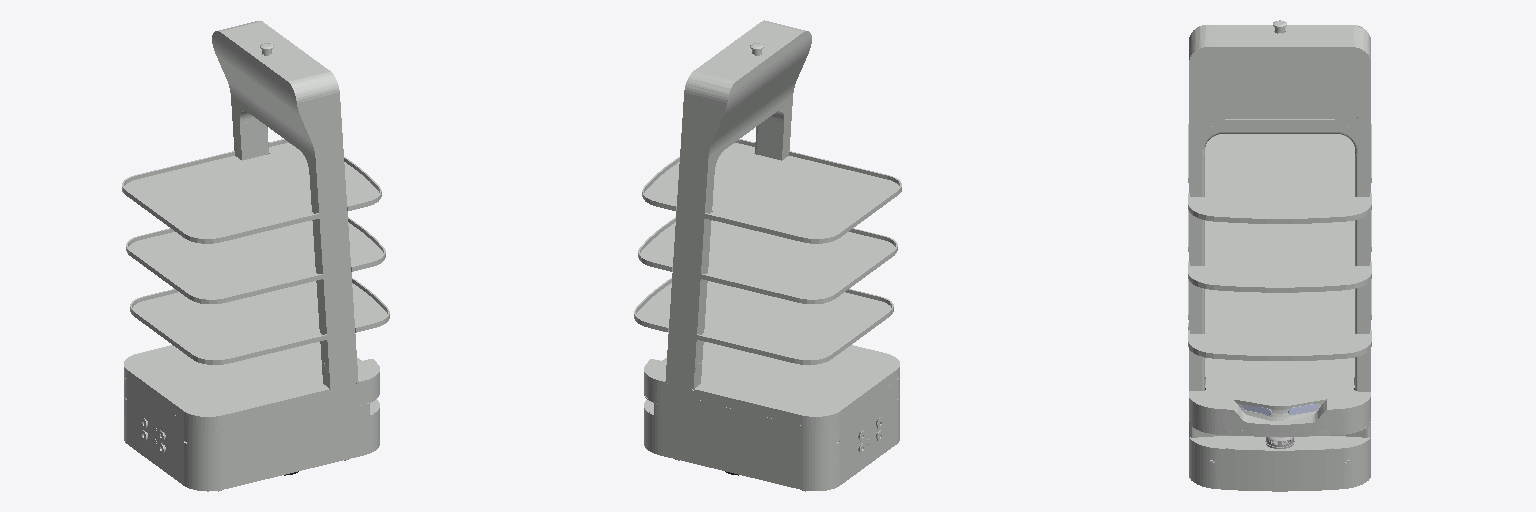
URDF robot description (indoor_del_bot):
<?xml version="1.0" encoding="utf-8"?>
<robot
  name="indoor_del_bot">

  <!-- base_link -->
  <link
    name="base_link">
    <inertial>
      <origin
        xyz="-0.00780661123444948 -7.31508946258119E-05 0.10836966300559"
        rpy="0 0 0" />
      <mass
        value="7.29555428414327" />
      <inertia
        ixx="0.125210411522138"
        ixy="-3.83427255194445E-05"
        ixz="-0.00165613454521059"
        iyy="0.167583029848759"
        iyz="9.35047372303265E-07"
        izz="0.280285157053257" />
    </inertial>
    <visual>
      <origin
        xyz="0 0 0"
        rpy="0 0 0" />
      <geometry>
        <mesh
          filename="package://d_bot_description/meshes/base_link.STL" />
      </geometry>
      <material
        name="">
        <color
          rgba="0.827450980392157 0.83921568627451 0.827450980392157 1" />
      </material>
    </visual>
    <collision>
      <origin
        xyz="0 0 0"
        rpy="0 0 0" />
      <geometry>
        <mesh
          filename="package://d_bot_description/meshes/base_link.STL" />
      </geometry>
    </collision>
  </link>

  <!-- lidar link and joint -->
  <link
    name="lidar_link">
    <inertial>
      <origin
        xyz="0.279194541394812 -1.49381448597552E-05 0.122298548059415"
        rpy="0 0 0" />
      <mass
        value="0.165382751635992" />
      <inertia
        ixx="7.88651836105336E-05"
        ixy="4.84717640920877E-08"
        ixz="2.18479443959794E-06"
        iyy="7.51902914938724E-05"
        iyz="2.88601572510436E-08"
        izz="0.000109946753058708" />
    </inertial>
    <visual>
      <origin
        xyz="-0.279194541394812 1.49381448597552E-05 -0.122298548059415"
        rpy="0 0 0" />
      <geometry>
        <mesh
          filename="package://d_bot_description/meshes/lidar_link.STL" />
      </geometry>
      <material
        name="">
        <color
          rgba="0.752941176470588 0.752941176470588 0.752941176470588 0.4" />
      </material>
    </visual>
    <collision>
      <origin
        xyz="-0.279194541394812 1.49381448597552E-05 -0.122298548059415"
        rpy="0 0 0" />
      <geometry>
        <mesh
          filename="package://d_bot_description/meshes/lidar_link.STL" />
      </geometry>
    </collision>
  </link>
  <joint
    name="lidar_link_joint"
    type="fixed">
    <origin
      xyz="0.279194541394812 -1.49381448597552E-05 0.122298548059415"
      rpy="0 0 0" />
    <parent
      link="base_link" />
    <child
      link="lidar_link" />
    <axis
      xyz="1 0 0" />
  </joint>

  <!-- real_sense_left link and joint -->
  <link
    name="rs_left">
    <inertial>
      <origin
        xyz="0.274555027589029 0.0594512444419123 0.217391938332195"
        rpy="0 0 0" />
      <mass
        value="0.0447521571009435" />
      <inertia
        ixx="2.39114045668301E-05"
        ixy="8.20326286217048E-06"
        ixz="-1.82111380306059E-08"
        iyy="7.31204727336871E-06"
        iyz="1.80836025822923E-08"
        izz="2.73608190095255E-05" />
    </inertial>
    <visual>
      <origin
        xyz="-0.274555027589029 -0.0594512444419123 -0.217391938332195"
        rpy="0 0 0" />
      <geometry>
        <mesh
          filename="package://d_bot_description/meshes/rs_left.STL" />
      </geometry>
      <material
        name="">
        <color
          rgba="0.792156862745098 0.819607843137255 0.933333333333333 1" />
      </material>
    </visual>
    <collision>
      <origin
        xyz="-0.274555027589029 -0.0594512444419123 -0.217391938332195"
        rpy="0 0 0" />
      <geometry>
        <mesh
          filename="package://d_bot_description/meshes/rs_left.STL" />
      </geometry>
    </collision>
  </link>
  <joint
    name="rs_left_joint"
    type="fixed">
    <origin
      xyz="0.274555027589029 0.0594512444419123 0.217391938332195"
      rpy="0 0 0" />
    <parent
      link="base_link" />
    <child
      link="rs_left" />
    <axis
      xyz="0 0 0" />
  </joint>

  <!-- real_sense_right link and joint -->
  <link
    name="rs_right">
    <inertial>
      <origin
        xyz="0.273134158939021 -0.0563363041663852 0.215391956342575"
        rpy="0 0 0" />
      <mass
        value="0.0447522720440084" />
      <inertia
        ixx="2.28893414689802E-05"
        ixy="-9.12224588442263E-06"
        ixz="1.2674636414842E-09"
        iyy="8.33417328604517E-06"
        iyz="2.56207062416853E-08"
        izz="2.73608662757534E-05" />
    </inertial>
    <visual>
      <origin
        xyz="-0.273134158939021 0.0563363041663852 -0.215391956342575"
        rpy="0 0 0" />
      <geometry>
        <mesh
          filename="package://d_bot_description/meshes/rs_right.STL" />
      </geometry>
      <material
        name="">
        <color
          rgba="0.792156862745098 0.819607843137255 0.933333333333333 1" />
      </material>
    </visual>
    <collision>
      <origin
        xyz="-0.273134158939021 0.0563363041663852 -0.215391956342575"
        rpy="0 0 0" />
      <geometry>
        <mesh
          filename="package://d_bot_description/meshes/rs_right.STL" />
      </geometry>
    </collision>
  </link>
  <joint
    name="rs_right_joint"
    type="fixed">
    <origin
      xyz="0.273134158939021 -0.0563363041663852 0.215391956342575"
      rpy="0 0 0" />
    <parent
      link="base_link" />
    <child
      link="rs_right" />
    <axis
      xyz="0 0 0" />
  </joint>

  <!-- caster_front_left link and joint -->
  <link
    name="caster_fl">
    <inertial>
      <origin
        xyz="0.191862541507397 0.197610528427432 0.00130276285386216"
        rpy="0 0 0" />
      <mass
        value="0.0334173711421252" />
      <inertia
        ixx="6.33984500469436E-06"
        ixy="3.76037439293872E-08"
        ixz="-6.40304873706217E-22"
        iyy="1.06390050747607E-05"
        iyz="-2.92534718662965E-22"
        izz="6.33951611873327E-06" />
    </inertial>
    <visual>
      <origin
        xyz="-0.191862541507397 -0.197610528427432 -0.00130276285386216"
        rpy="0 0 0" />
      <geometry>
        <mesh
          filename="package://d_bot_description/meshes/caster_fl.STL" />
      </geometry>
      <material
        name="">
        <color
          rgba="0.792156862745098 0.819607843137255 0.933333333333333 1" />
      </material>
    </visual>
    <collision>
      <origin
        xyz="-0.191862541507397 -0.197610528427432 -0.00130276285386216"
        rpy="0 0 0" />
      <geometry>
        <mesh
          filename="package://d_bot_description/meshes/caster_fl.STL" />
      </geometry>
    </collision>
  </link>
  <joint
    name="caster_fl_joint"
    type="continuous">
    <origin
      xyz="0.191862541507397 0.197610528427432 0.00130276285386216"
      rpy="0 0 0" />
    <parent
      link="base_link" />
    <child
      link="caster_fl" />
    <axis
      xyz="0 1 0" />
  </joint>

  <!-- caster_front_right link and joint -->
  <link
    name="caster_fr">
    <inertial>
      <origin
        xyz="0.191862541507396 -0.197389471572568 0.0013027628538621"
        rpy="0 0 0" />
      <mass
        value="0.0334173711421252" />
      <inertia
        ixx="6.33984500469437E-06"
        ixy="3.76037439293871E-08"
        ixz="-5.7474846017805E-22"
        iyy="1.06390050747608E-05"
        iyz="-2.90217181917764E-22"
        izz="6.33951611873328E-06" />
    </inertial>
    <visual>
      <origin
        xyz="-0.191862541507396 0.197389471572568 -0.0013027628538621"
        rpy="0 0 0" />
      <geometry>
        <mesh
          filename="package://d_bot_description/meshes/caster_fr.STL" />
      </geometry>
      <material
        name="">
        <color
          rgba="0.792156862745098 0.819607843137255 0.933333333333333 1" />
      </material>
    </visual>
    <collision>
      <origin
        xyz="-0.191862541507396 0.197389471572568 -0.0013027628538621"
        rpy="0 0 0" />
      <geometry>
        <mesh
          filename="package://d_bot_description/meshes/caster_fr.STL" />
      </geometry>
    </collision>
  </link>
  <joint
    name="caster_fr_joint"
    type="continuous">
    <origin
      xyz="0.191862541507396 -0.197389471572568 0.0013027628538621"
      rpy="0 0 0" />
    <parent
      link="base_link" />
    <child
      link="caster_fr" />
    <axis
      xyz="0 1 0" />
  </joint>

<!-- caster_rear_right link and joint -->
  <link
    name="caster_rr">
    <inertial>
      <origin
        xyz="-0.228137458492605 -0.197389471572567 0.00130276285386094"
        rpy="0 0 0" />
      <mass
        value="0.0334173711421253" />
      <inertia
        ixx="6.33984500469439E-06"
        ixy="3.76037439293856E-08"
        ixz="-3.93390012977437E-22"
        iyy="1.06390050747608E-05"
        iyz="5.27758670867211E-23"
        izz="6.33951611873329E-06" />
    </inertial>
    <visual>
      <origin
        xyz="0.228137458492605 0.197389471572567 -0.00130276285386094"
        rpy="0 0 0" />
      <geometry>
        <mesh
          filename="package://d_bot_description/meshes/caster_rr.STL" />
      </geometry>
      <material
        name="">
        <color
          rgba="0.792156862745098 0.819607843137255 0.933333333333333 1" />
      </material>
    </visual>
    <collision>
      <origin
        xyz="0.228137458492605 0.197389471572567 -0.00130276285386094"
        rpy="0 0 0" />
      <geometry>
        <mesh
          filename="package://d_bot_description/meshes/caster_rr.STL" />
      </geometry>
    </collision>
  </link>
  <joint
    name="caster_rr_joint"
    type="continuous">
    <origin
      xyz="-0.228137458492605 -0.197389471572567 0.00130276285386094"
      rpy="0 0 0" />
    <parent
      link="base_link" />
    <child
      link="caster_rr" />
    <axis
      xyz="0 1 0" />
  </joint>

  <!-- caster_rear_left link and joint -->
  <link
    name="caster_rl">
    <inertial>
      <origin
        xyz="-0.228137458492603 0.197610528427433 0.00130276285386072"
        rpy="0 0 0" />
      <mass
        value="0.0334173711421252" />
      <inertia
        ixx="6.33984500469436E-06"
        ixy="3.76037439293854E-08"
        ixz="-4.09191144021621E-22"
        iyy="1.06390050747607E-05"
        iyz="3.07538745319858E-22"
        izz="6.33951611873327E-06" />
    </inertial>
    <visual>
      <origin
        xyz="0.228137458492603 -0.197610528427433 -0.00130276285386072"
        rpy="0 0 0" />
      <geometry>
        <mesh
          filename="package://d_bot_description/meshes/caster_rl.STL" />
      </geometry>
      <material
        name="">
        <color
          rgba="0.792156862745098 0.819607843137255 0.933333333333333 1" />
      </material>
    </visual>
    <collision>
      <origin
        xyz="0.228137458492603 -0.197610528427433 -0.00130276285386072"
        rpy="0 0 0" />
      <geometry>
        <mesh
          filename="package://d_bot_description/meshes/caster_rl.STL" />
      </geometry>
    </collision>
  </link>
  <joint
    name="caster_rl_joint"
    type="continuous">
    <origin
      xyz="-0.228137458492603 0.197610528427433 0.00130276285386072"
      rpy="0 0 0" />
    <parent
      link="base_link" />
    <child
      link="caster_rl" />
    <axis
      xyz="0 1 0" />
  </joint>

  <!-- drive_wheel_left_link and joint -->
  <link
    name="drive_wheel_left">
    <inertial>
      <origin
        xyz="-7.34417430403589E-06 0.204110516837841 0.0500007440772356"
        rpy="0 0 0" />
      <mass
        value="0.989823090734287" />
      <inertia
        ixx="0.00167927609411678"
        ixy="-3.96993088092875E-07"
        ixz="1.37275681706091E-08"
        iyy="0.00288690083815091"
        iyz="4.02214745015368E-08"
        izz="0.00167922468849555" />
    </inertial>
    <visual>
      <origin
        xyz="7.34417430403589E-06 -0.204110516837841 -0.0500007440772356"
        rpy="0 0 0" />
      <geometry>
        <mesh
          filename="package://d_bot_description/meshes/drive_wheel_left.STL" />
      </geometry>
      <material
        name="">
        <color
          rgba="0.2 0.2 0.2 1" />
      </material>
    </visual>
    <collision>
      <origin
        xyz="7.34417430403589E-06 -0.204110516837841 -0.0500007440772356"
        rpy="0 0 0" />
      <geometry>
        <mesh
          filename="package://d_bot_description/meshes/drive_wheel_left.STL" />
      </geometry>
    </collision>
  </link>
  <!-- xyz="-7.34417430403589E-06 0.204110516837841 0.0500007440772356" -->
  <joint
    name="drive_wheel_left_joint"
    type="continuous">
    <origin
      xyz="-7.34417430403589E-06 0.204110516837841 0.0600007440772356"
      rpy="0 0 0" />
    <parent
      link="base_link" />
    <child
      link="drive_wheel_left" />
    <axis
      xyz="0 1 0" />
  </joint>

  <!-- drive_wheel_right_link and joint -->
  <link
    name="drive_wheel_right">
    <inertial>
      <origin
        xyz="7.34417430392487E-06 -0.204110516837841 0.0500007440772355"
        rpy="0 0 0" />
      <mass
        value="0.989823090734286" />
      <inertia
        ixx="0.00167927609411676"
        ixy="-3.96993088093067E-07"
        ixz="-1.3727568175685E-08"
        iyy="0.00288690083815089"
        iyz="-4.02214744999068E-08"
        izz="0.00167922468849555" />
    </inertial>
    <visual>
      <origin
        xyz="-7.34417430392487E-06 0.204110516837841 -0.0500007440772355"
        rpy="0 0 0" />
      <geometry>
        <mesh
          filename="package://d_bot_description/meshes/drive_wheel_right.STL" />
      </geometry>
      <material
        name="">
        <color
          rgba="0.2 0.2 0.2 1" />
      </material>
    </visual>
    <collision>
      <origin
        xyz="-7.34417430392487E-06 0.204110516837841 -0.0500007440772355"
        rpy="0 0 0" />
      <geometry>
        <mesh
          filename="package://d_bot_description/meshes/drive_wheel_right.STL" />
      </geometry>
    </collision>
  </link>
  <joint
    name="drive_wheel_right_joint"
    type="continuous">
    <origin
      xyz="7.34417430392487E-06 -0.204110516837841 0.0600007440772355"
      rpy="0 0 0" />
    <parent
      link="base_link" />
    <child
      link="drive_wheel_right" />
    <axis
      xyz="0 1 0" />
  </joint>

  <!-- for left drive wheel -->

  <!-- This block provides the simulator (Gazebo) with information on a few additional
  physical properties. See http://gazebosim.org/tutorials/?tut=ros_urdf for more-->
  <gazebo reference="drive_wheel_left">
      <mu1 value="200.0"/>
      <mu2 value="100.0"/>
      <kp value="10000000.0" />
      <kd value="1.0" />
      <material>Gazebo/Grey</material>
  </gazebo>

  <!-- This block connects the wheel joint to an actuator (motor), which informs both
  simulation and visualization of the robot -->
  <transmission name="drive_wheel_left_trans">
      <type>transmission_interface/SimpleTransmission</type>
      <actuator name="drive_wheel_left_motor">
          <mechanicalReduction>1</mechanicalReduction>
      </actuator>
      <joint name="drive_wheel_left_joint">
          <hardwareInterface>hardware_interface/VelocityJointInterface</hardwareInterface>
      </joint>
  </transmission>

  <!-- for right drive wheel -->

  <!-- This block provides the simulator (Gazebo) with information on a few additional
  physical properties. See http://gazebosim.org/tutorials/?tut=ros_urdf for more-->
  <gazebo reference="drive_wheel_right">
      <mu1 value="200.0"/>
      <mu2 value="100.0"/>
      <kp value="10000000.0" />
      <kd value="1.0" />
      <material>Gazebo/Grey</material>
  </gazebo>

  <!-- This block connects the wheel joint to an actuator (motor), which informs both
  simulation and visualization of the robot -->
  <transmission name="drive_wheel_right_trans">
      <type>transmission_interface/SimpleTransmission</type>
      <actuator name="drive_wheel_right_motor">
          <mechanicalReduction>1</mechanicalReduction>
      </actuator>
      <joint name="drive_wheel_right_joint">
          <hardwareInterface>hardware_interface/VelocityJointInterface</hardwareInterface>
      </joint>
  </transmission>




  <!-- Gazebo plugin for ROS Control -->
  <gazebo>

      <plugin name="gazebo_ros_control" filename="libgazebo_ros_control.so">
          <robotNamespace>/</robotNamespace>
      </plugin>

  </gazebo>

</robot>

--- Render facts (derived) ---
Views: 3 orthographic renders of the robot side by side, from view 1: azimuth 30°, elevation 25°; view 2: azimuth 150°, elevation 25°; view 3: azimuth 270°, elevation 25°.
Robot: indoor_del_bot — 10 links, 9 joints (6 continuous, 3 fixed); root link base_link; default pose: every joint at zero.
Visible links, largest first — view 1: base_link; view 2: base_link; view 3: base_link.
Boxes of the visible links, <box> form: base_link: <box>122,21,389,491</box>; base_link: <box>634,20,901,490</box>; base_link: <box>1188,20,1371,491</box>.
Size in the robot's own frame: 0.6964 by 0.49 by 1.27 metres.
Meshes: 10 distinct files referenced, 10 mesh visuals loaded (10 binary STL).